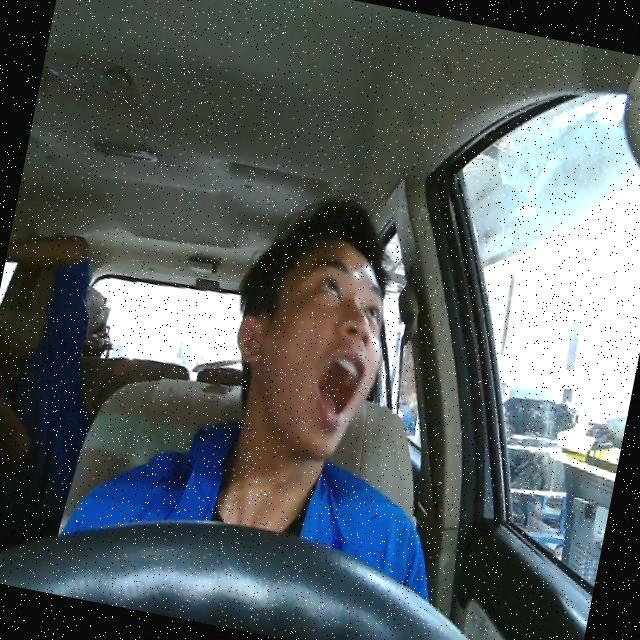yarning: (217, 222, 403, 466)
